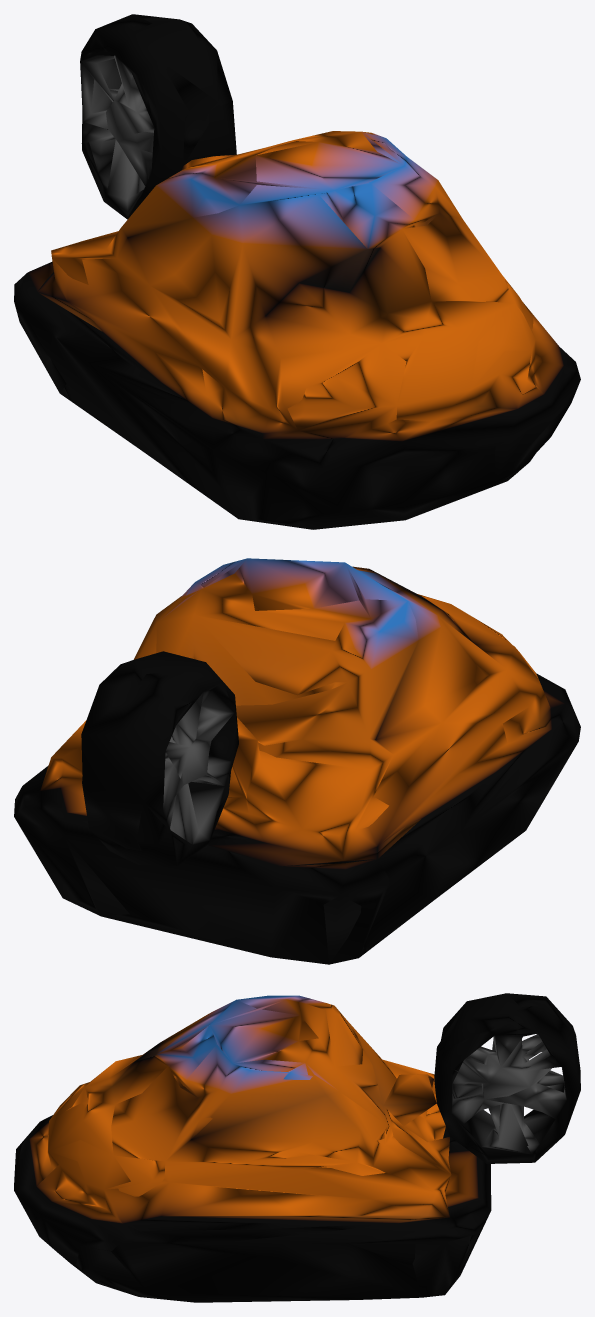
The model's file is gen3d-hovercraft-lod1.glb.
The picture shows the model from 3 angles, top to bottom: view 1: azimuth 30°, elevation 25°; view 2: azimuth 150°, elevation 25°; view 3: azimuth 270°, elevation 25°; orthographic projection. The views are drawn at different scales.
Parts seen in each view (by area): view 1: part_0; view 2: part_0; view 3: part_0.
Part boxes in pixels (<box>): part_0: <box>14,14,580,529</box>; part_0: <box>14,558,580,964</box>; part_0: <box>14,993,580,1302</box>.
Size of the model in its own units: 1.3 by 0.993 by 2.11.
